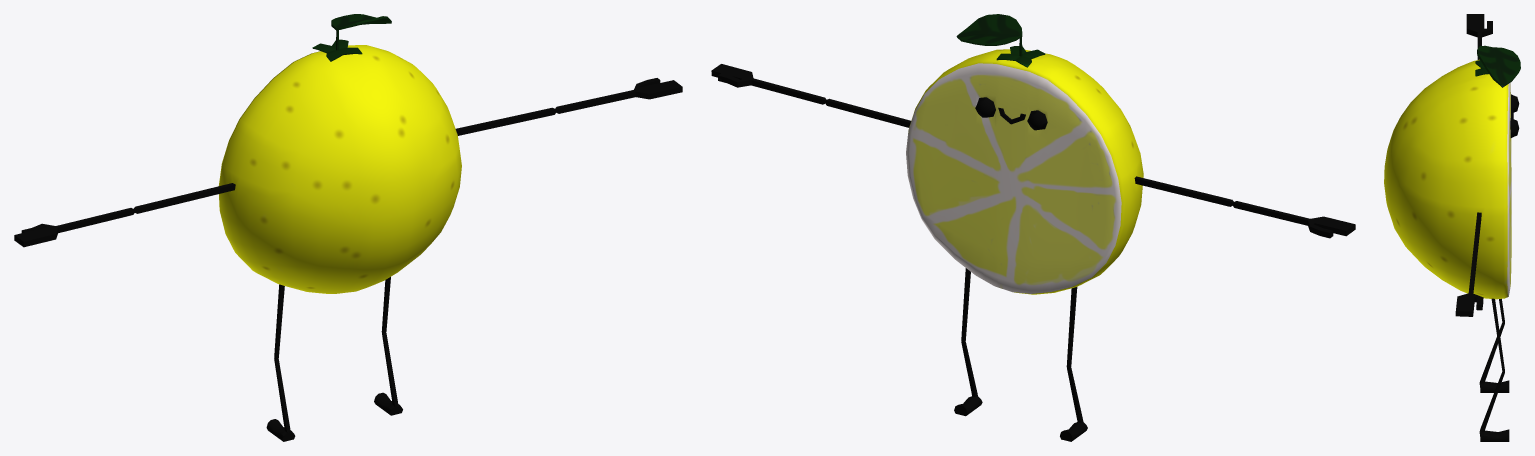
The model's file is citrontexture.glb.
3 renders of one model, left to right at view 1: azimuth 30°, elevation 25°; view 2: azimuth 150°, elevation 25°; view 3: azimuth 270°, elevation 25°, orthographic. The views are drawn at different scales.
Visible parts, largest first — view 1: polySurface6; view 2: polySurface6; view 3: polySurface6.
Boxes of the visible parts, <box> form: polySurface6: <box>14,14,682,441</box>; polySurface6: <box>711,14,1355,441</box>; polySurface6: <box>1384,14,1520,441</box>.
Bounding box in the file's own units: 2.47 × 1.46 × 0.4807.
Materials: 1 (1 with a texture image).
